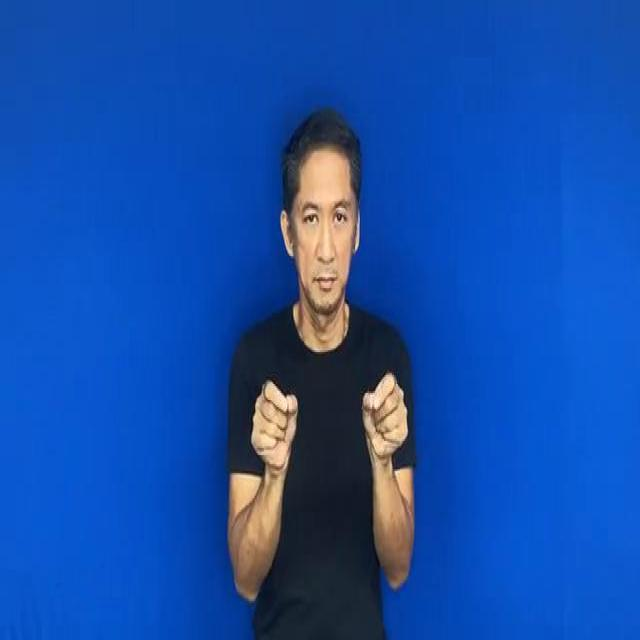crab: (242, 354, 308, 487), (349, 367, 417, 464)
